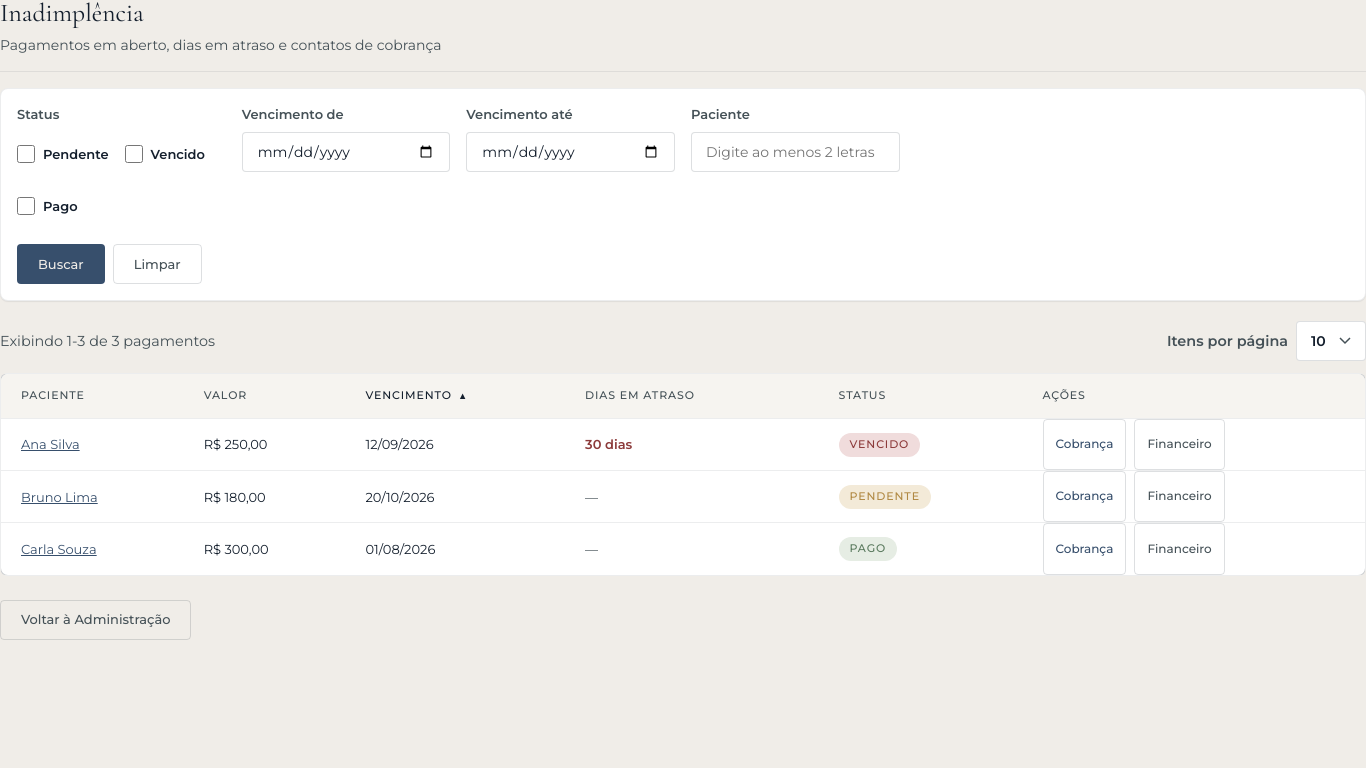
Test case: InadimplenciaComponent › cobrança › should open the dialog with the payment summary and its contact history
What coordinates should you click on to do the following:
click the button "Cobrança" in the row of "Ana Silva"
I would click on:
 (1084, 444)
Its box is [1042,419,1126,470].
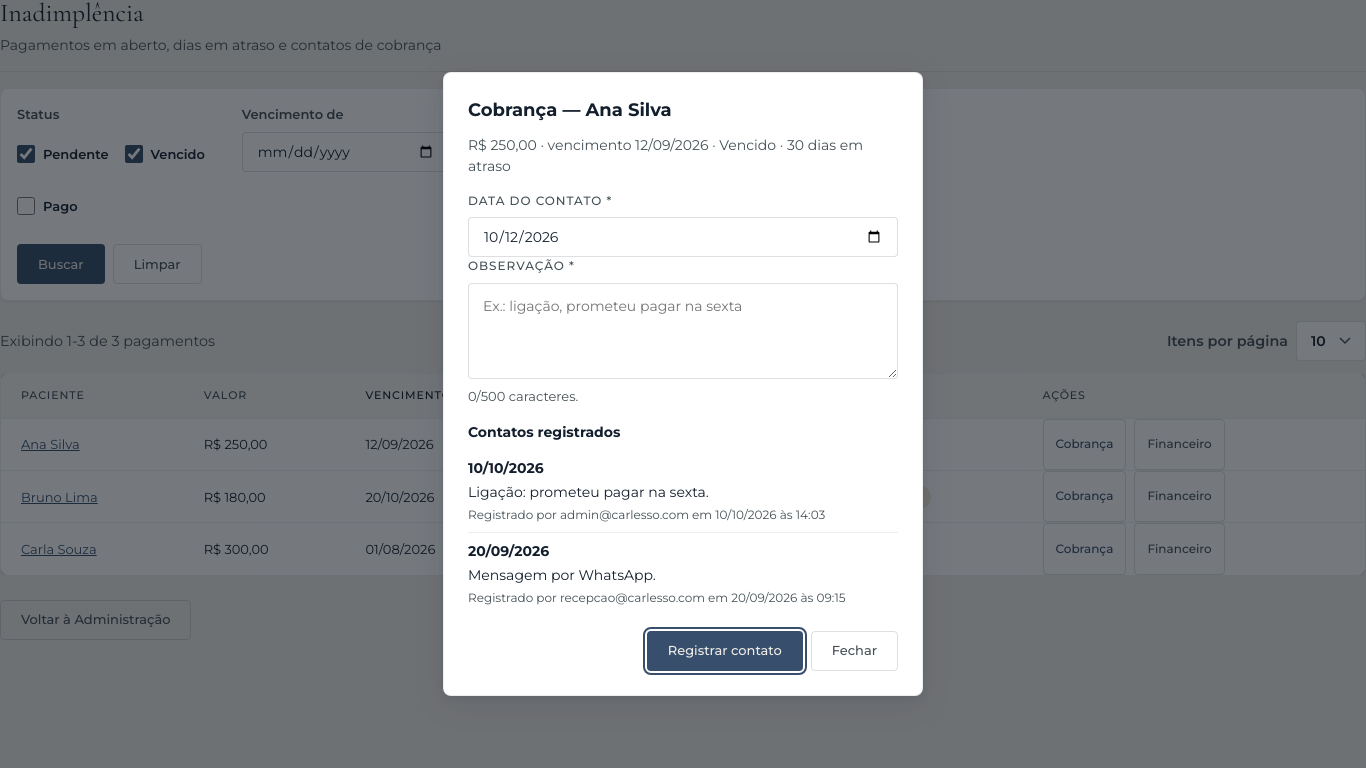
Result: the heading with class "dialog-title" reads "Cobrança — Ana Silva" at [468,99,672,121]
Result: the text with class "cobranca-resumo" shows "R$ 250,00 · vencimento 12/09/2026" at [468,136,780,154]
Result: the text with class "cobranca-resumo" shows "30 dias em atraso" at [468,136,863,175]
